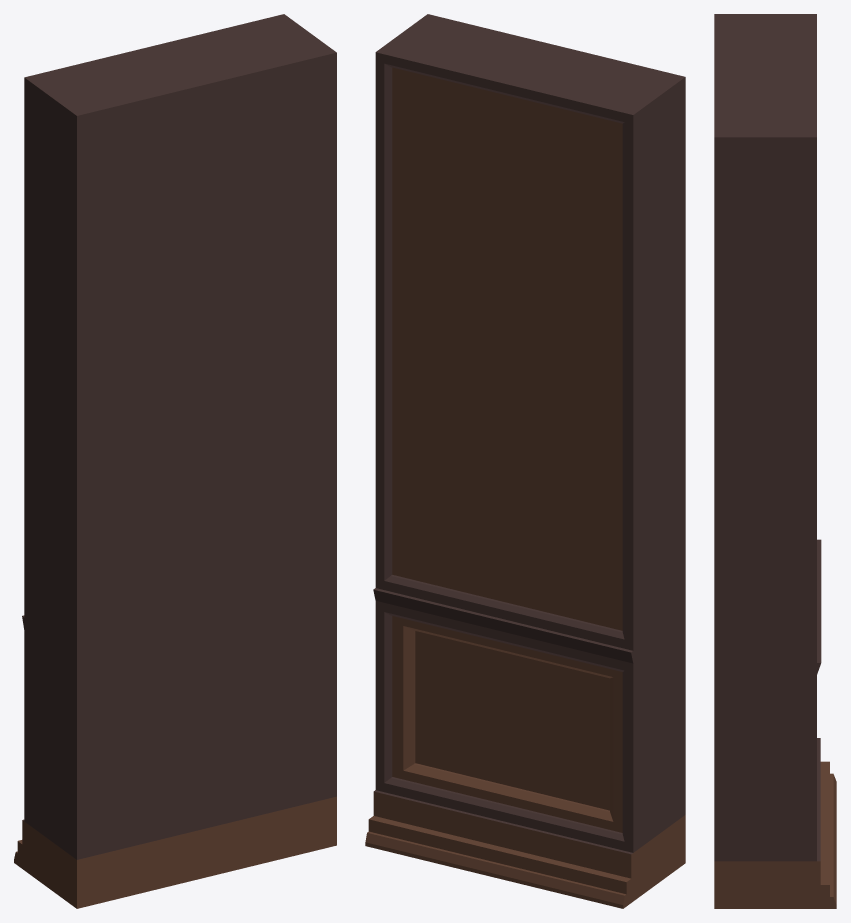
The model's file is wall_1.fbx.
3 renders of one model, left to right at view 1: azimuth 30°, elevation 25°; view 2: azimuth 150°, elevation 25°; view 3: azimuth 270°, elevation 25°, orthographic. The views are drawn at different scales.
Parts seen in each view (by area): view 1: Wall_1; view 2: Wall_1; view 3: Wall_1.
Part boxes in pixels (x1,y1,x2,y2): Wall_1: (14,14,336,908); Wall_1: (365,14,685,908); Wall_1: (714,14,836,908).
Bounding box in the file's own units: 200 × 583 × 83.79.
